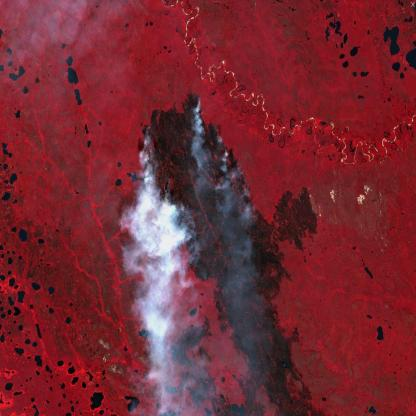fire: (134, 89, 255, 227)
